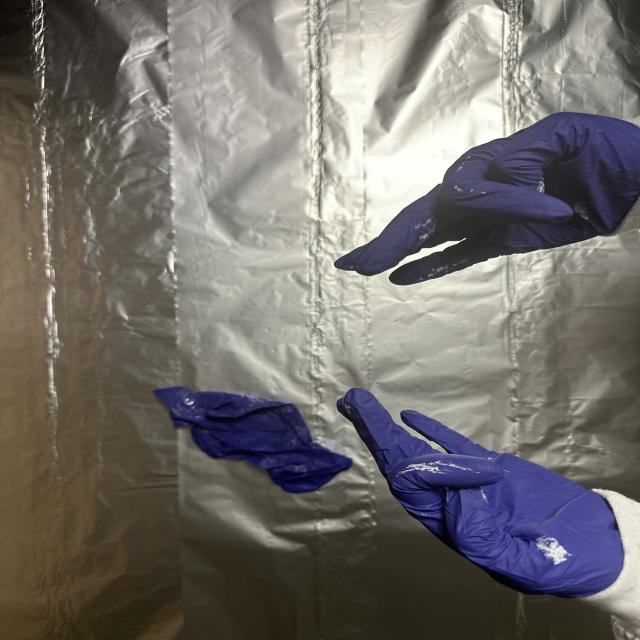gloves_contaminated: (337, 388, 624, 598), (335, 113, 640, 286)
